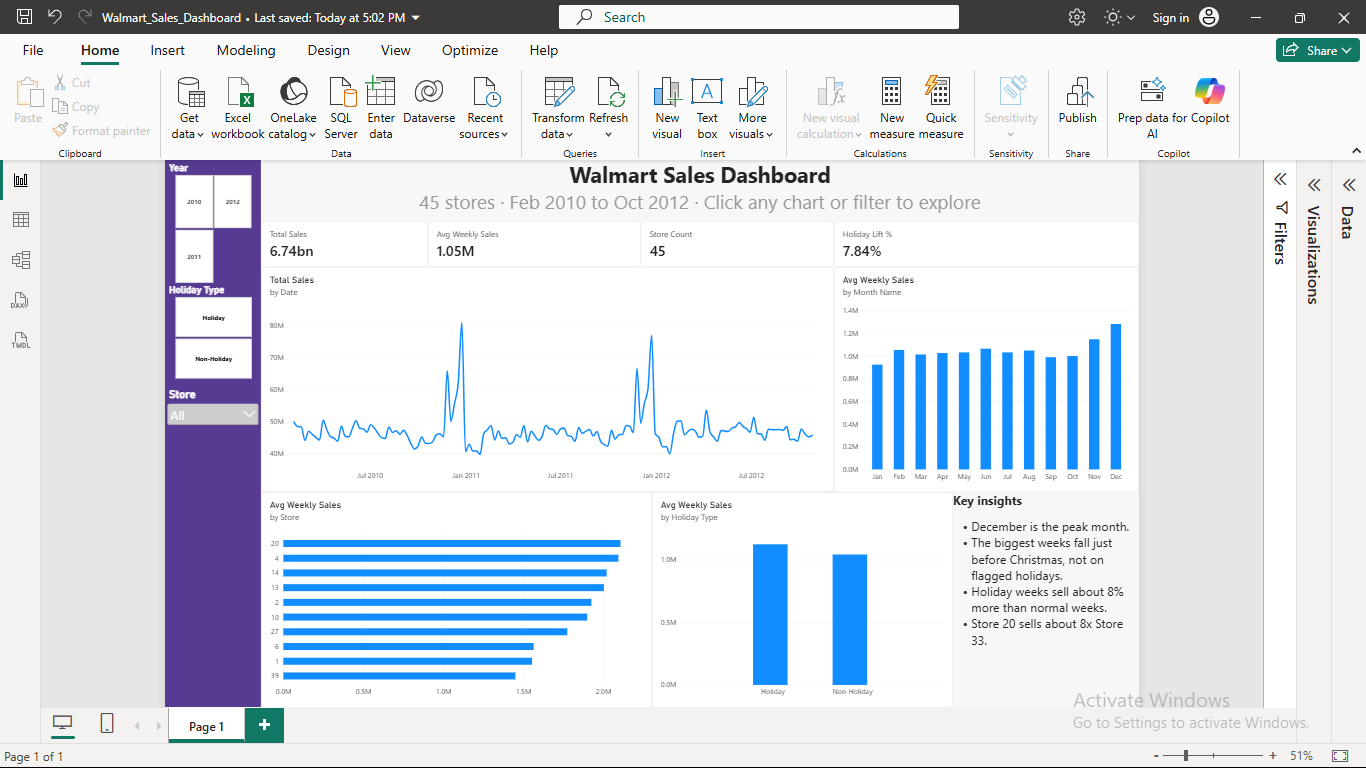

This screenshot's page, from the dashboard's own definition file:
{"tool":"powerbi","page":{"name":"Page 1","canvas":[1920,1080],"ordinal":0},"visuals":[{"type":"shape","box":[0,0,189.2,1078],"z":0},{"type":"cardVisual","fields":{"Data":["Walmart.Total Sales"]},"box":[189.2,120.2,329.1,90.7],"z":1000},{"type":"cardVisual","fields":{"Data":["Walmart.Store Count"]},"box":[938.1,120.2,380.4,90.7],"z":2000},{"type":"cardVisual","fields":{"Data":["Walmart.Avg Weekly Sales"]},"box":[518.3,120.2,419.1,90.8],"z":3000},{"type":"cardVisual","fields":{"Data":["Walmart.Holiday Lift %"]},"box":[1319.2,119.7,600.8,90.8],"z":4000},{"type":"lineChart","fields":{"Category":["Walmart.Date"],"Y":["Walmart.Total Sales"]},"box":[189.2,210.9,1129.3,443.4],"z":5000},{"type":"clusteredColumnChart","fields":{"Category":["Walmart.Month Name"],"Y":["Walmart.Avg Weekly Sales"]},"box":[1319.2,210.6,600.8,443.9],"z":6000},{"type":"clusteredBarChart","fields":{"Category":["Walmart.Store"],"Y":["Walmart.Avg Weekly Sales"]},"box":[189.2,654.3,770.6,425.7],"z":7000},{"type":"clusteredColumnChart","fields":{"Category":["Walmart.Holiday Type"],"Y":["Walmart.Avg Weekly Sales"]},"box":[960,654.5,592.5,425.3],"z":8000},{"type":"slicer","fields":{"Values":["Walmart.Year"]},"box":[0,3.9,189.2,240.4],"z":9000},{"type":"slicer","fields":{"Values":["Walmart.Store"]},"box":[0,449.3,189.2,626.7],"z":10000},{"type":"slicer","fields":{"Values":["Walmart.Holiday Type"]},"box":[0,244.4,189.9,187.9],"z":11000},{"type":"textbox","box":[1553,655,367,424],"z":12000},{"type":"textbox","box":[189.2,0,1730.4,120.2],"z":13000}]}

Visuals, with their boxes on the page's 1920x1080 design canvas (x1, y1, x2, y2). These are canvas units, not pixel positions in the 1366x768 screenshot, which may show the page scaled, cropped or inside an application window:
shape: bbox(0, 0, 189, 1078)
cardVisual - Walmart.Total Sales: bbox(189, 120, 518, 211)
cardVisual - Walmart.Store Count: bbox(938, 120, 1318, 211)
cardVisual - Walmart.Avg Weekly Sales: bbox(518, 120, 937, 211)
cardVisual - Walmart.Holiday Lift %: bbox(1319, 120, 1920, 210)
lineChart - Walmart.Date x Walmart.Total Sales: bbox(189, 211, 1318, 654)
clusteredColumnChart - Walmart.Month Name x Walmart.Avg Weekly Sales: bbox(1319, 211, 1920, 654)
clusteredBarChart - Walmart.Store x Walmart.Avg Weekly Sales: bbox(189, 654, 960, 1080)
clusteredColumnChart - Walmart.Holiday Type x Walmart.Avg Weekly Sales: bbox(960, 654, 1552, 1080)
slicer - Walmart.Year: bbox(0, 4, 189, 244)
slicer - Walmart.Store: bbox(0, 449, 189, 1076)
slicer - Walmart.Holiday Type: bbox(0, 244, 190, 432)
textbox: bbox(1553, 655, 1920, 1079)
textbox: bbox(189, 0, 1920, 120)
